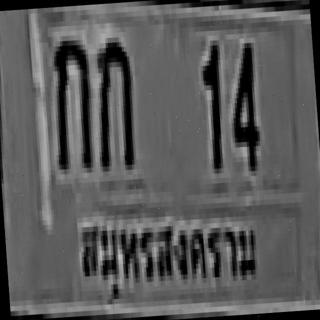A01: (48, 34, 94, 170), (91, 37, 134, 167)
N01: (198, 40, 225, 169)
N04: (226, 38, 260, 167)
P59: (69, 200, 268, 316)
